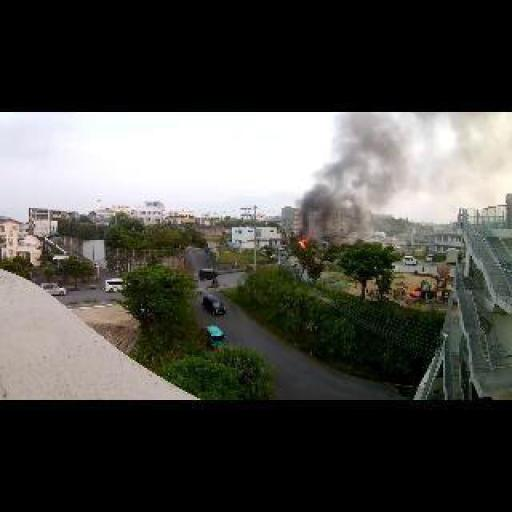smoke: (330, 110, 510, 200), (296, 174, 371, 237), (299, 237, 307, 246)
